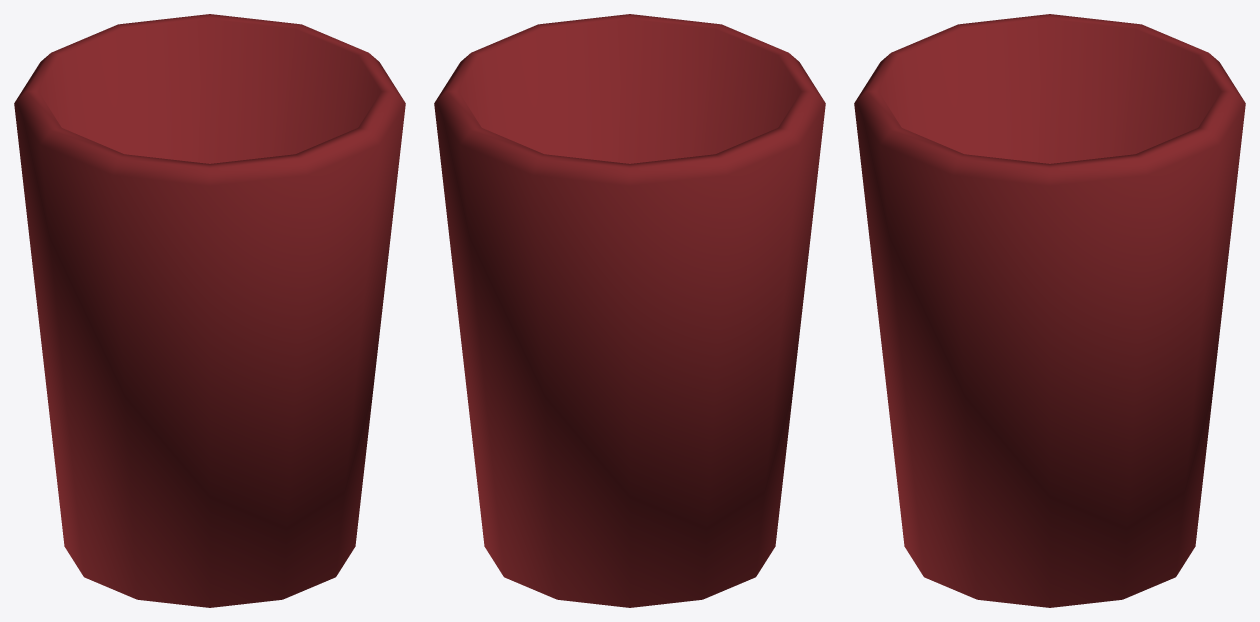
File: Cup.fbx
3 renders of one model, left to right at view 1: azimuth 30°, elevation 25°; view 2: azimuth 150°, elevation 25°; view 3: azimuth 270°, elevation 25°, orthographic.
Parts seen in each view (by area): view 1: Cylinder.002; view 2: Cylinder.002; view 3: Cylinder.002.
Boxes of the visible parts, <box> form: Cylinder.002: <box>14,14,405,607</box>; Cylinder.002: <box>434,14,825,607</box>; Cylinder.002: <box>854,14,1245,607</box>.
Size of the model in its own units: 43.7 by 56 by 43.7.
